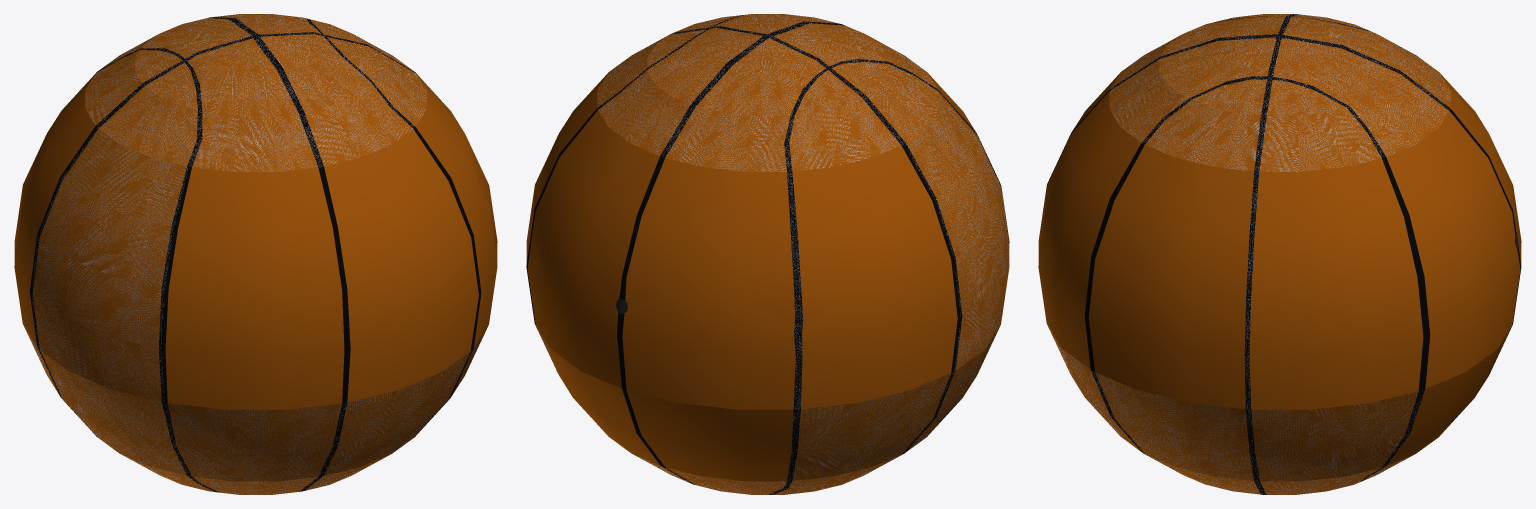
3 renders of one model, left to right at view 1: azimuth 30°, elevation 25°; view 2: azimuth 150°, elevation 25°; view 3: azimuth 270°, elevation 25°, orthographic.
Visible parts, largest first — view 1: SketchUp (×18); view 2: SketchUp (×17); view 3: SketchUp (×17).
Part boxes in pixels (box(x1,y1,x2,y2)): SketchUp (×18): box(14, 14, 497, 494); SketchUp (×17): box(526, 14, 1009, 494); SketchUp (×17): box(1038, 14, 1521, 494).
Bounding box in the file's own units: 11.01 × 11.01 × 11.
